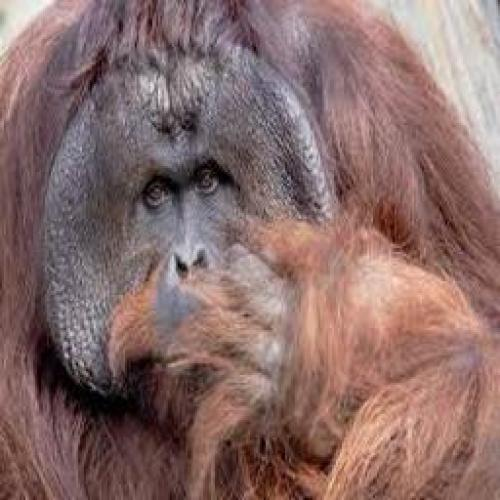orangutan-endangered: (2, 0, 500, 500)
